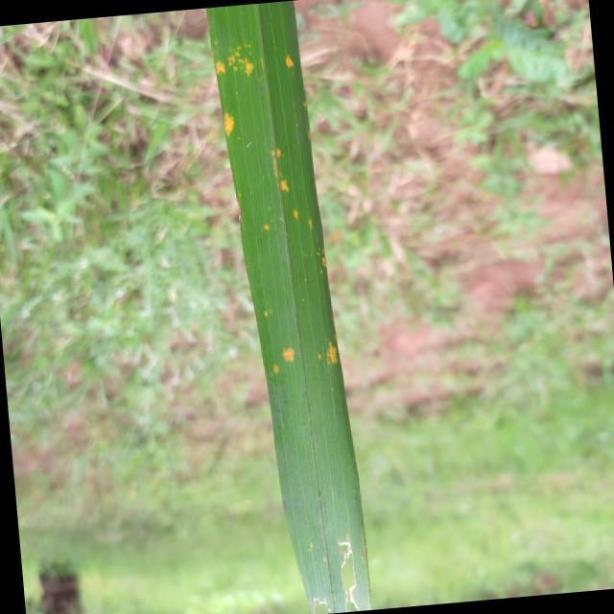Kalium: (206, 0, 369, 614)
